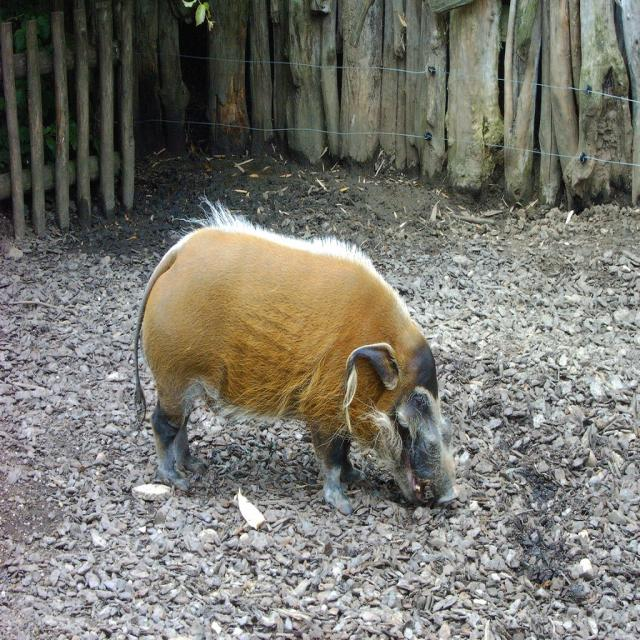Pig: (133, 195, 458, 512)
